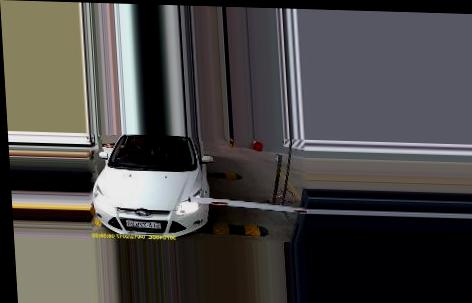License_Plate: (124, 219, 161, 229)
